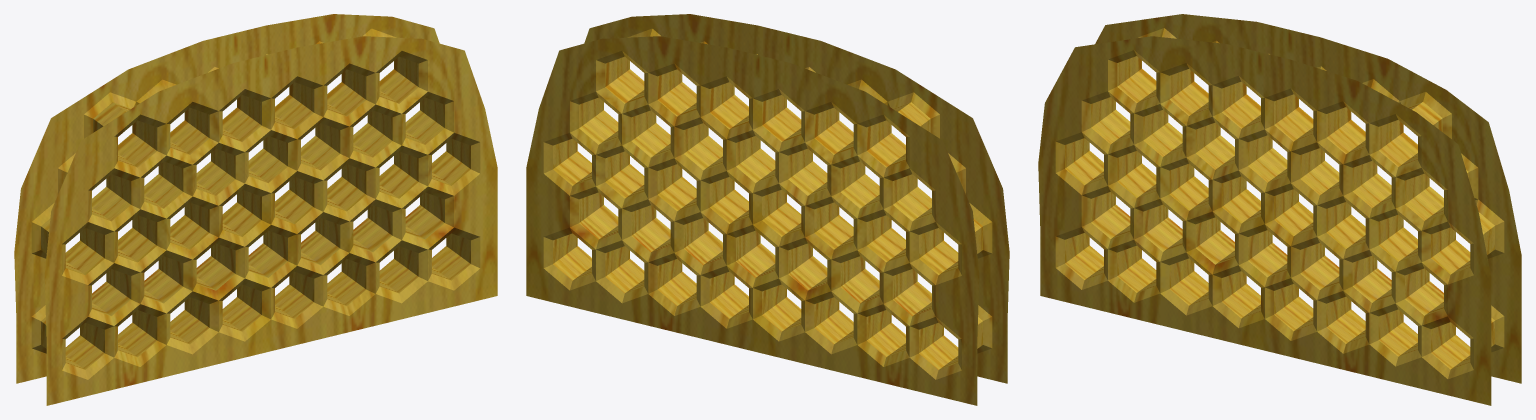
The model's file is ForestHomeGate_bake.dae.
The picture shows the model from 3 angles, left to right: view 1: azimuth 30°, elevation 25°; view 2: azimuth 150°, elevation 25°; view 3: azimuth 330°, elevation 25°; orthographic projection.
Visible parts, largest first — view 1: m0; view 2: m0; view 3: m0.
Part boxes in pixels (x1,y1,x2,y2): m0: [14, 14, 497, 405]; m0: [526, 14, 1009, 405]; m0: [1038, 14, 1521, 405].
Bounding box in the file's own units: 1927 × 1209 × 223.
Materials: 2 (2 with a texture image).
